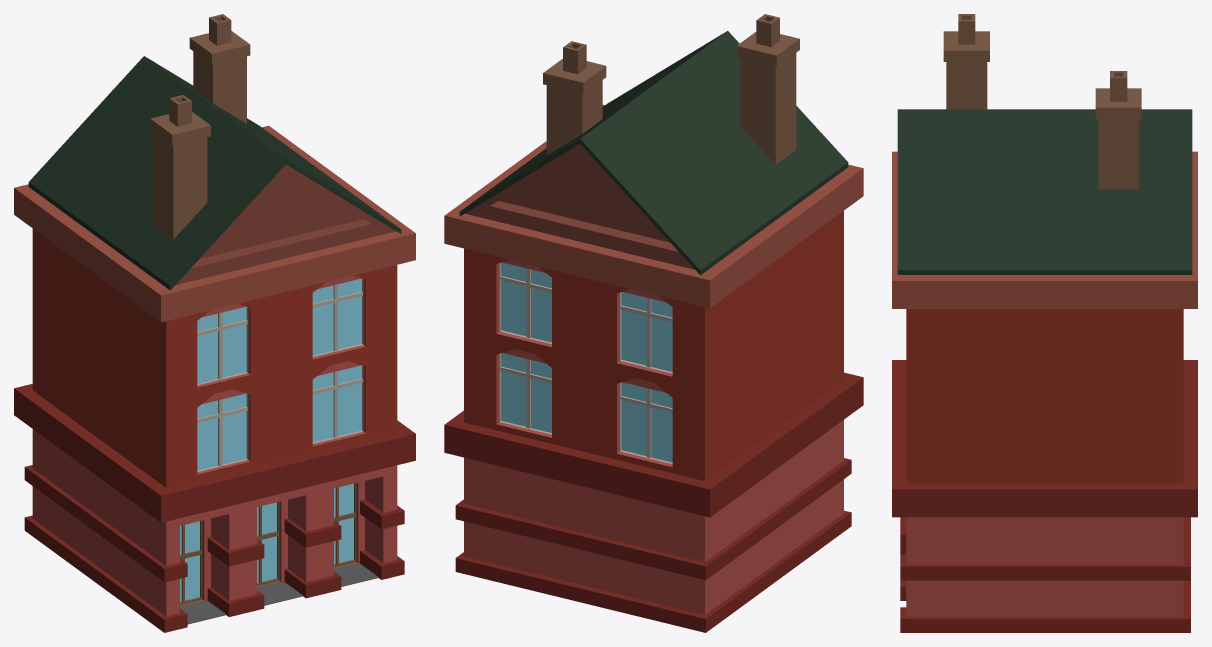
The model's file is SM_Building_02_B.gltf.
The picture shows the model from 3 angles, left to right: view 1: azimuth 30°, elevation 25°; view 2: azimuth 150°, elevation 25°; view 3: azimuth 270°, elevation 25°; orthographic projection. The views are drawn at different scales.
Parts seen in each view (by area): view 1: SM_Building_02_B; view 2: SM_Building_02_B; view 3: SM_Building_02_B.
Part boxes in pixels (<box>): SM_Building_02_B: <box>14,14,415,632</box>; SM_Building_02_B: <box>444,14,863,632</box>; SM_Building_02_B: <box>892,14,1197,632</box>.
Bounding box in the file's own units: 2.21 × 4.12 × 2.21.
